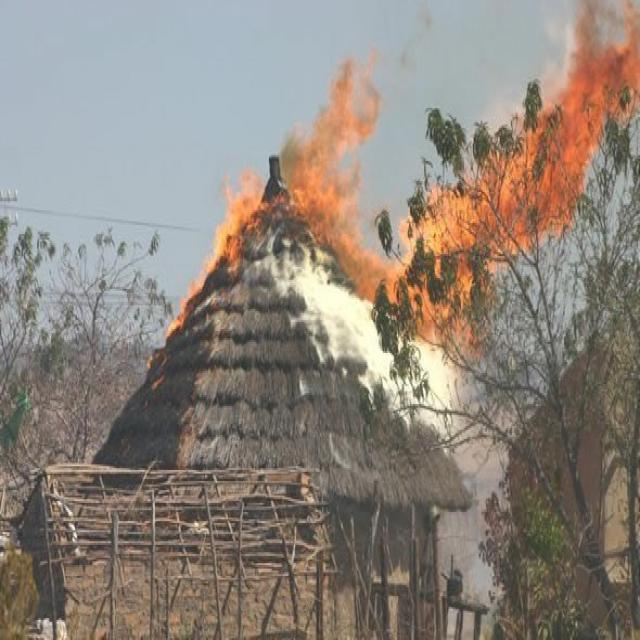fire: (543, 22, 638, 232), (287, 64, 379, 236), (210, 169, 270, 267)
